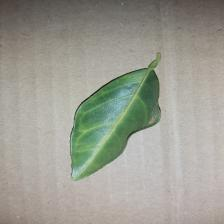greening: (62, 50, 168, 183)
